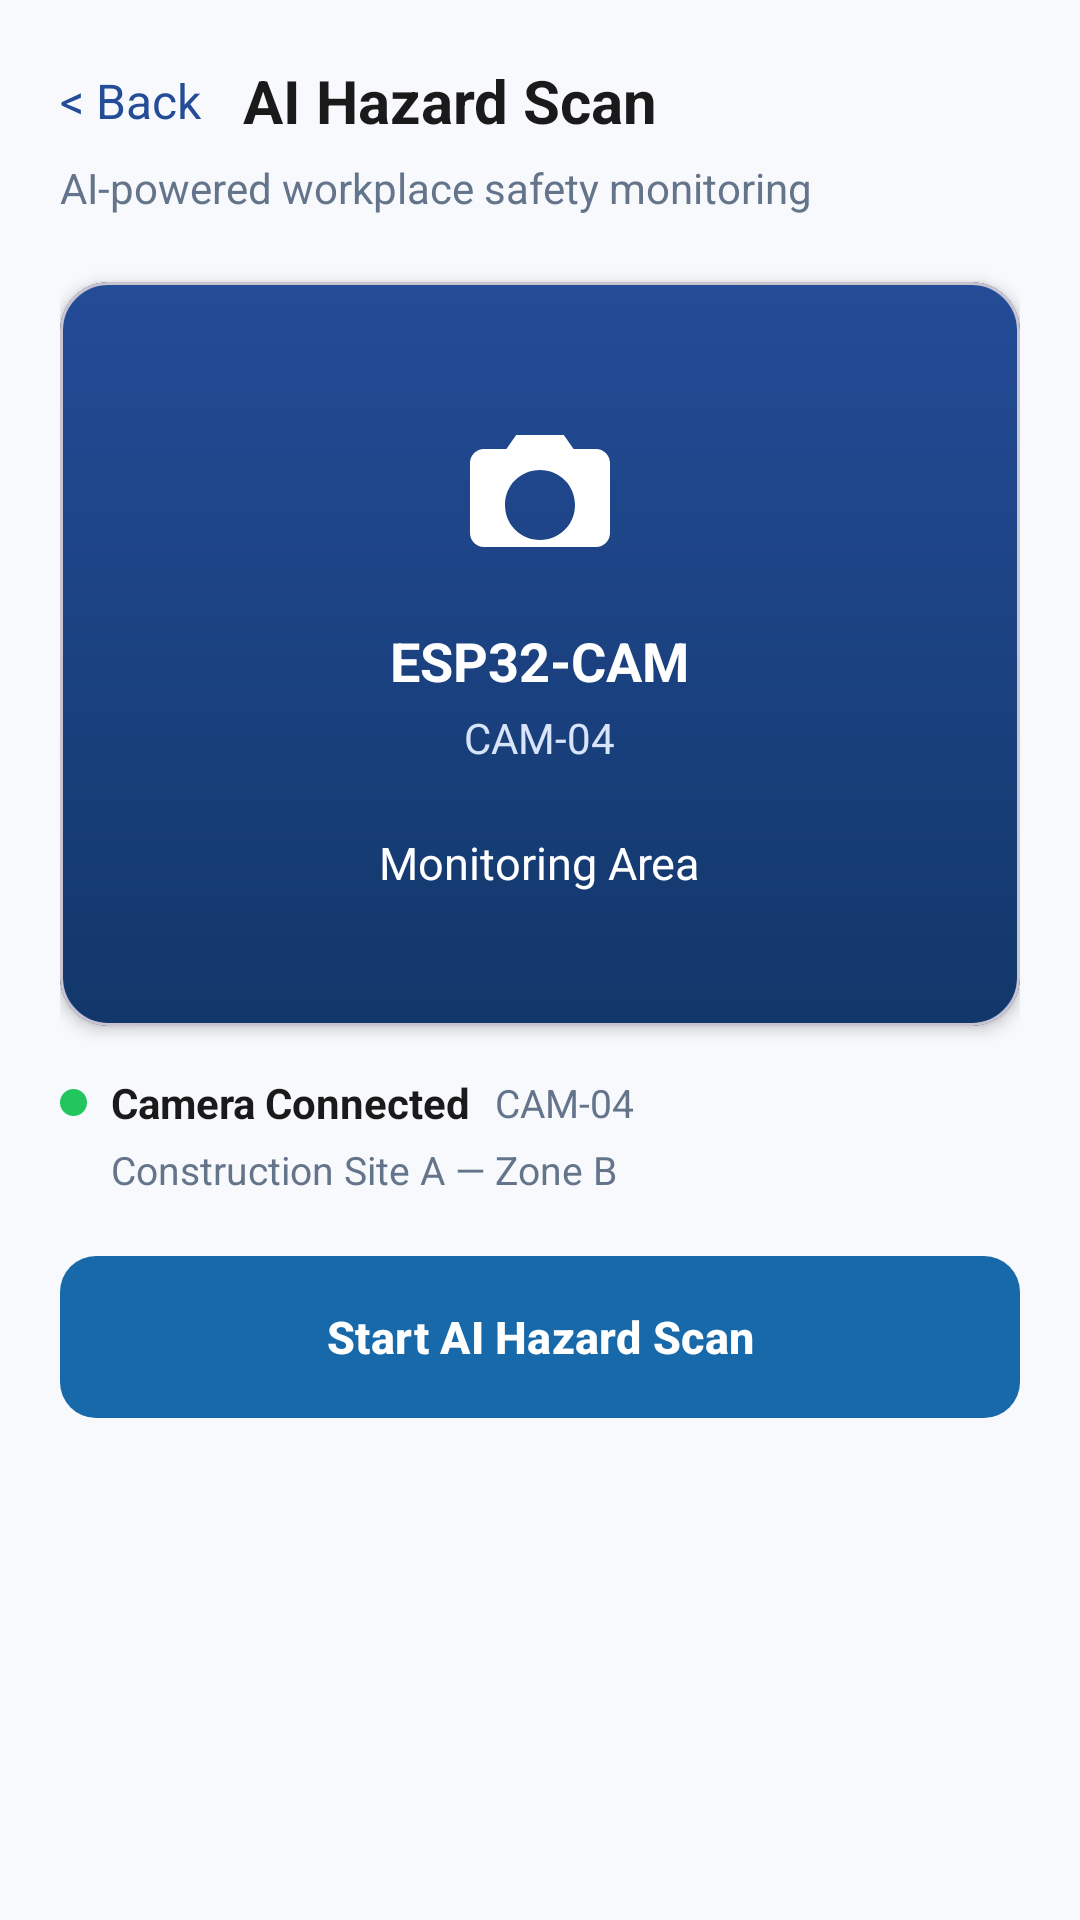

Named icons in this screenshot (1080x1920) and their centers, point (x, y):
Camera feed: point (540, 491)
